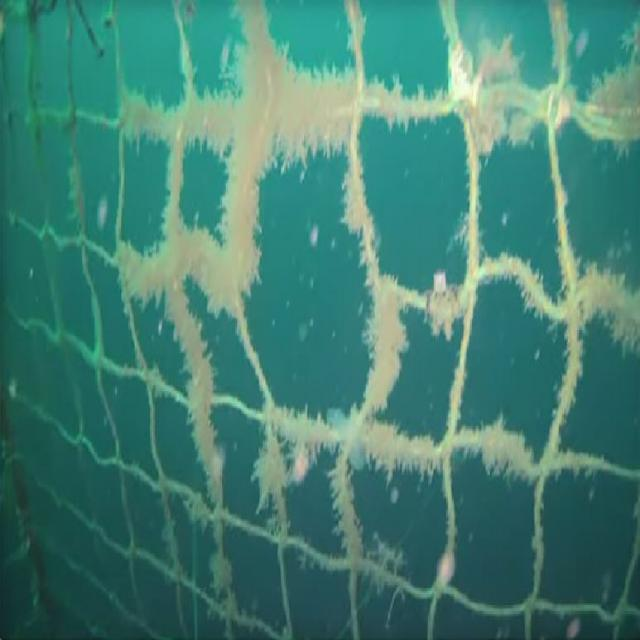fence line: (201, 71, 413, 472)
